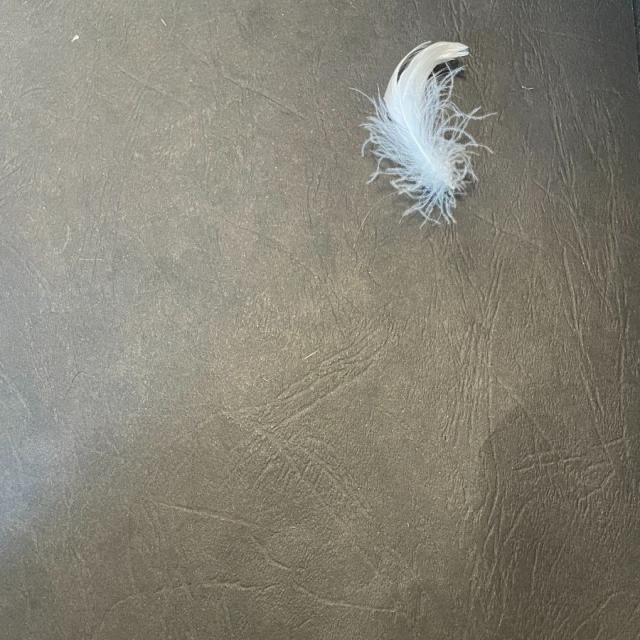feather: (353, 38, 490, 225)
